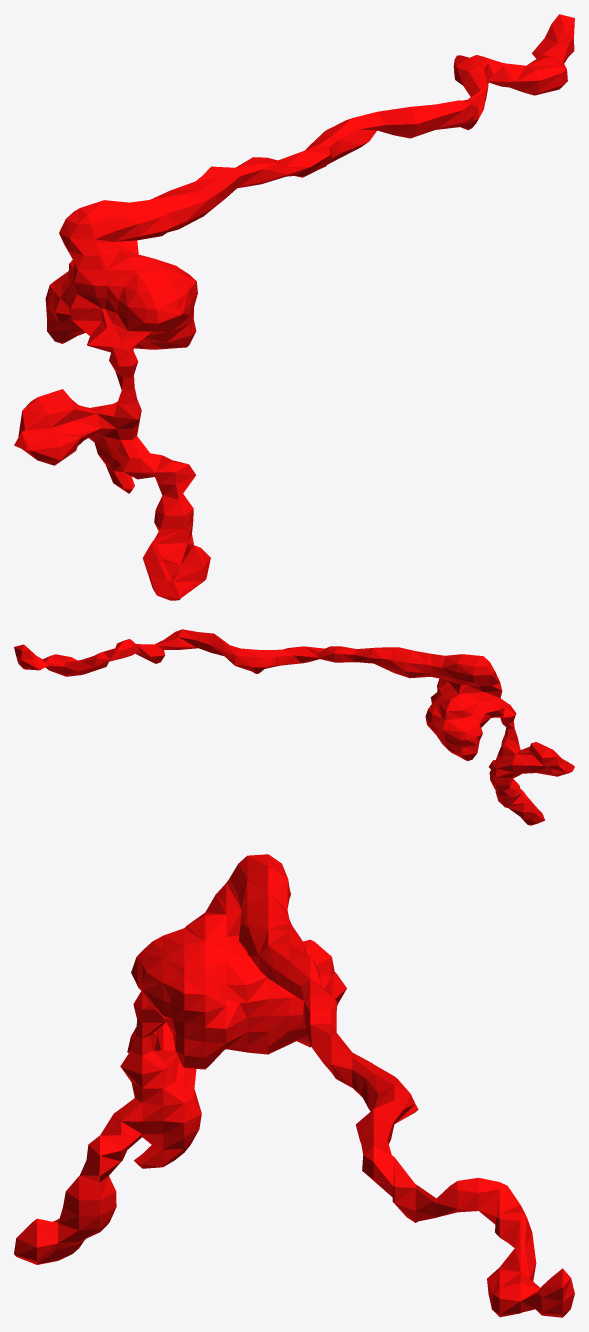
The model's file is mreC_coarse.dae.
3 renders of one model, top to bottom at view 1: azimuth 30°, elevation 25°; view 2: azimuth 150°, elevation 25°; view 3: azimuth 270°, elevation 25°, orthographic. The views are drawn at different scales.
Parts seen in each view (by area): view 1: mreC; view 2: mreC; view 3: mreC.
Boxes of the visible parts, x1,y1,x2,y2 form: mreC: [14, 14, 574, 600]; mreC: [14, 629, 574, 825]; mreC: [14, 854, 574, 1317].
Bounding box in the file's own units: 264 × 115 × 141.
